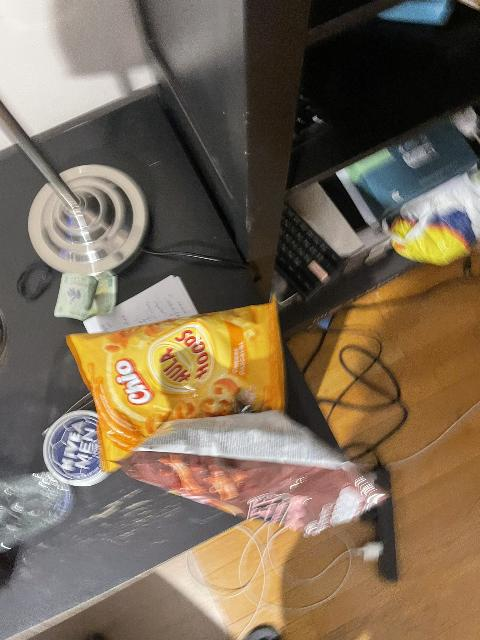Chio Hula Hoops Cheese 70g: (66, 300, 290, 470)
Lays Beef Grilled Ribs 125g: (119, 411, 383, 536)
